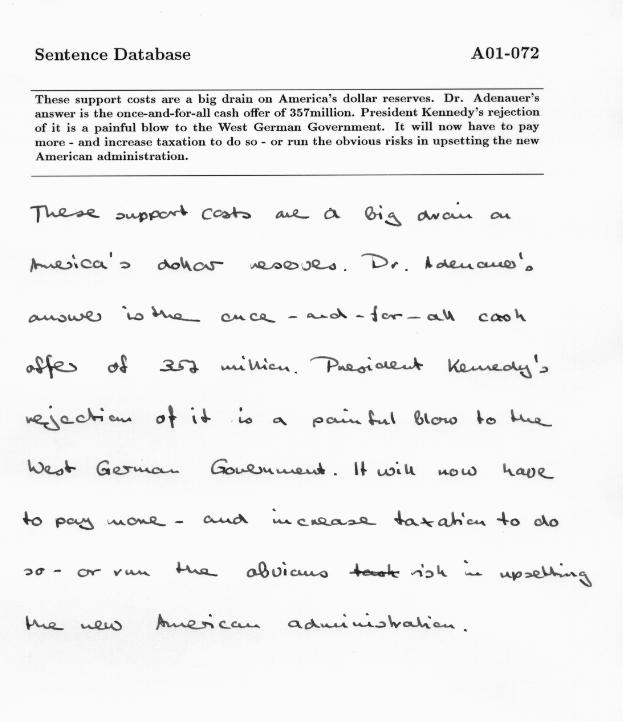text: (18, 557, 596, 593), (21, 401, 554, 435), (22, 350, 552, 382), (24, 454, 559, 482), (19, 508, 563, 535), (27, 199, 514, 229), (26, 249, 537, 275), (26, 302, 532, 328), (22, 610, 471, 635), (33, 105, 542, 121), (32, 118, 541, 134), (33, 91, 541, 107), (33, 134, 541, 150), (32, 44, 193, 65), (32, 149, 190, 163), (470, 44, 540, 62)
